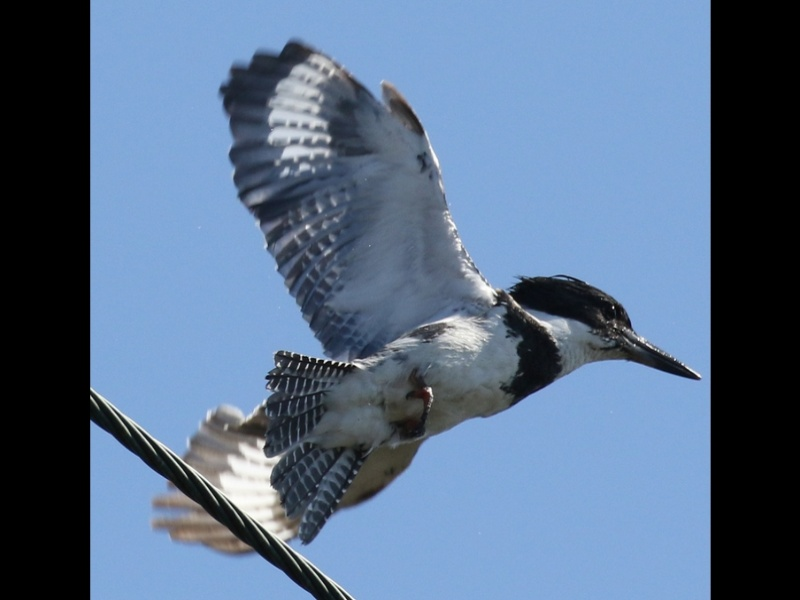kingfisher: (157, 39, 702, 560)
